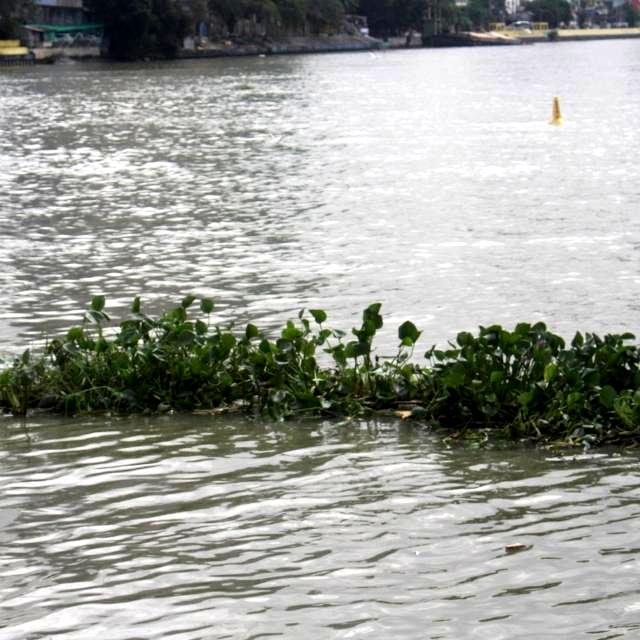water-hyacinth: (1, 300, 640, 453)
